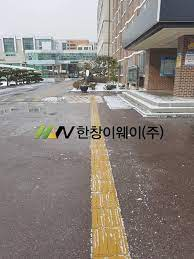guide_blocks: (92, 145, 127, 257), (88, 95, 100, 124)
